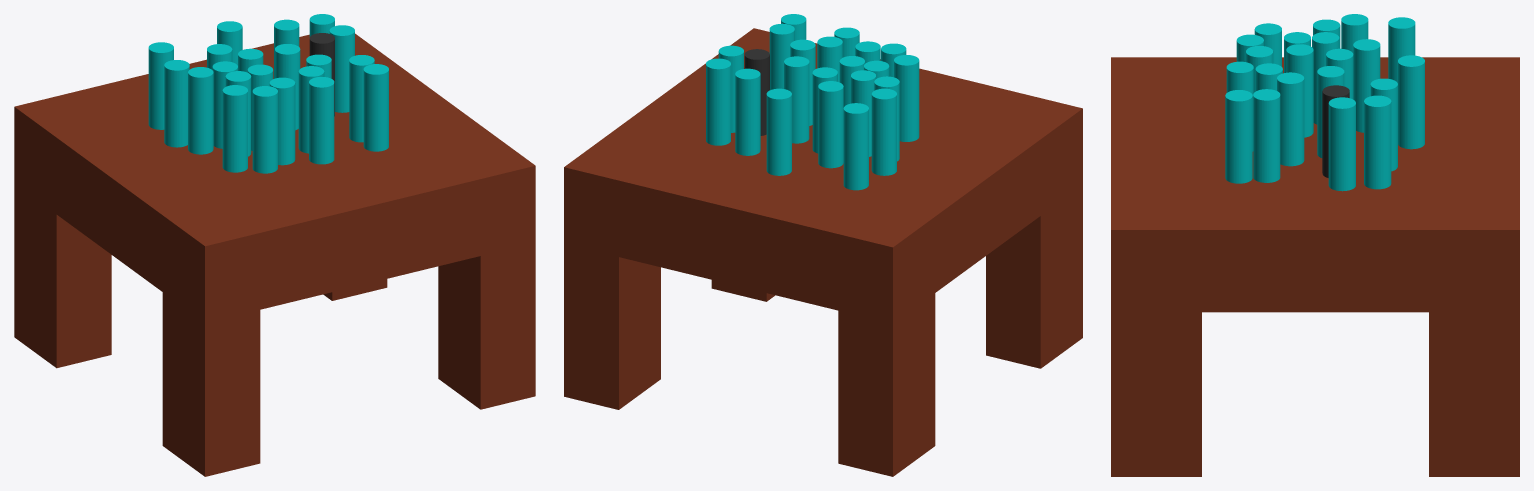
File: can_world_22_cans.dae
3 views of the same model, side by side, from view 1: azimuth 30°, elevation 25°; view 2: azimuth 150°, elevation 25°; view 3: azimuth 270°, elevation 25° (orthographic). The views are drawn at different scales.
Visible parts, largest first — view 1: base (×23); view 2: base (×22); view 3: base (×23).
Part boxes in pixels (x1,y1,x2,y2): base (×23): (14, 19, 535, 476); base (×22): (564, 23, 1082, 476); base (×23): (1111, 14, 1519, 476).
Size of the model in its own units: 0.9 by 0.9 by 0.8.
